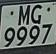7: (40, 22, 54, 45)
9: (3, 25, 17, 48), (28, 24, 43, 45), (15, 26, 29, 46)
G: (30, 4, 44, 26)
M: (17, 5, 33, 26)
